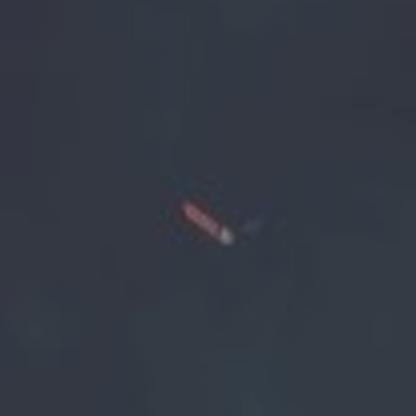ship: (172, 192, 236, 250)
